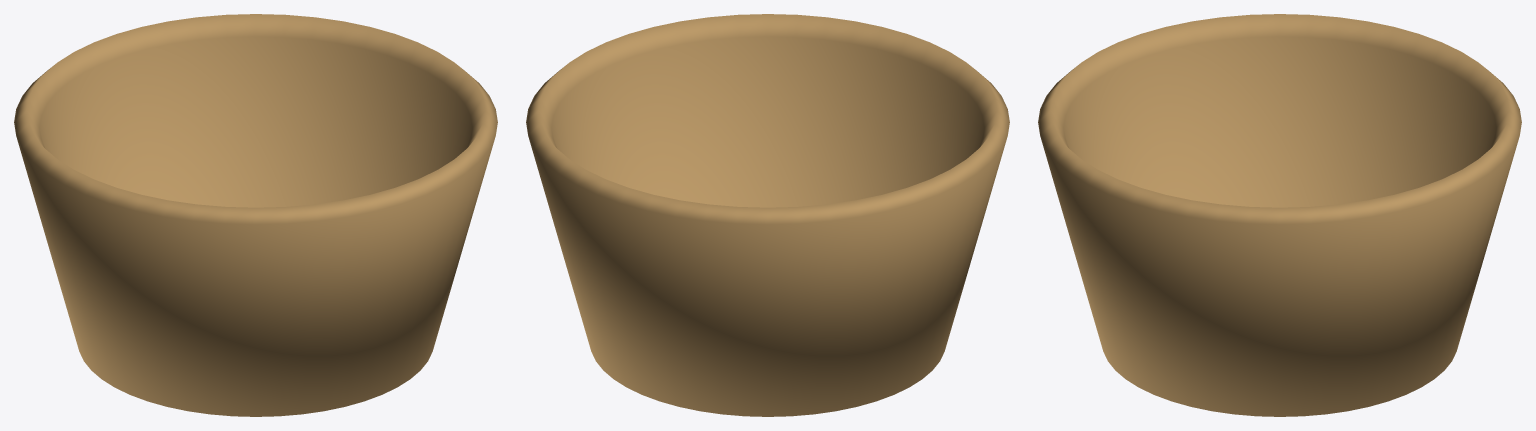
File: basket-study-ultra.glb
3 views of the same model, side by side, from view 1: azimuth 30°, elevation 25°; view 2: azimuth 150°, elevation 25°; view 3: azimuth 270°, elevation 25° (orthographic).
Parts seen in each view (by area): view 1: basket-study; view 2: basket-study; view 3: basket-study.
Part boxes in pixels (left/top/right/bottom): basket-study: left=14, top=14, right=497, bottom=416; basket-study: left=526, top=14, right=1009, bottom=416; basket-study: left=1038, top=14, right=1521, bottom=416.
Bounding box in the file's own units: 0.76 × 0.4 × 0.76.
